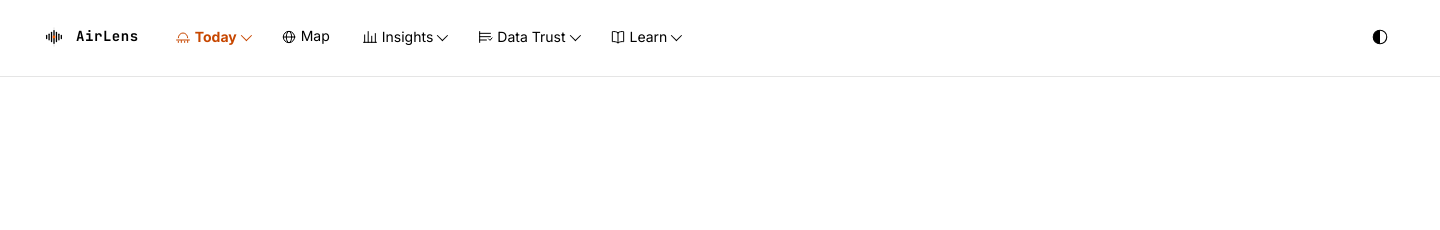
Test: GlobalNav — desktop disclosure › opening one group closes any other open group
Click the button "Today".
click(212, 36)  # box top-left (163, 16), bottom-right (261, 56)
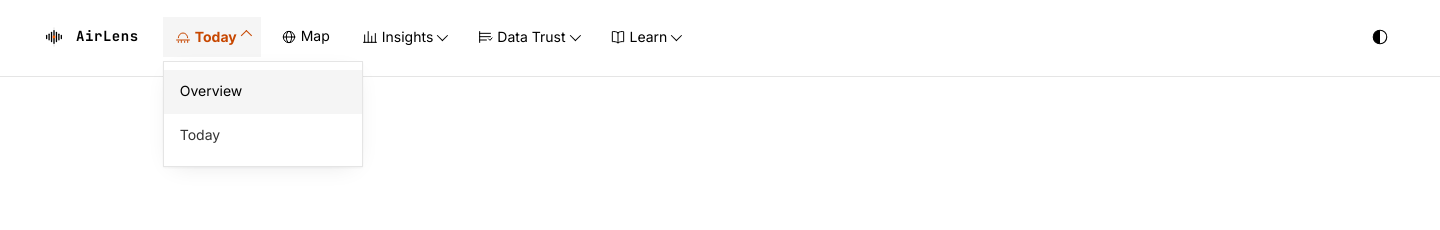
Click the button "Insights".
click(404, 36)  # box top-left (350, 16), bottom-right (457, 56)
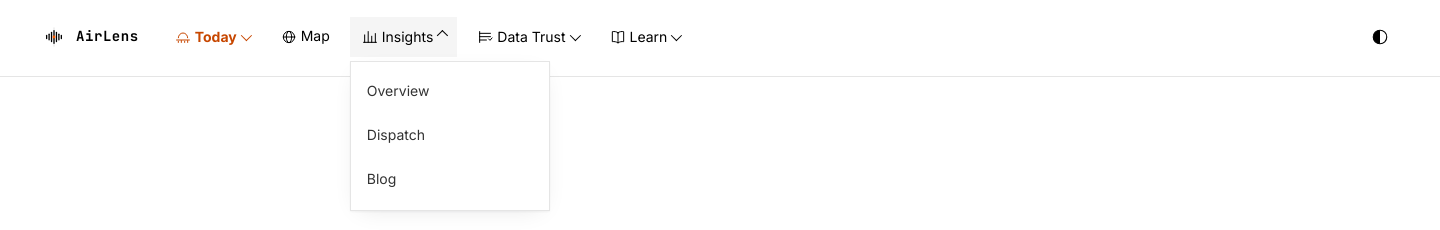
Expected: the button "Today" is collapsed, top-left (163, 16), bottom-right (261, 56)
Expected: the button "Insights" is expanded, top-left (350, 16), bottom-right (457, 56)
